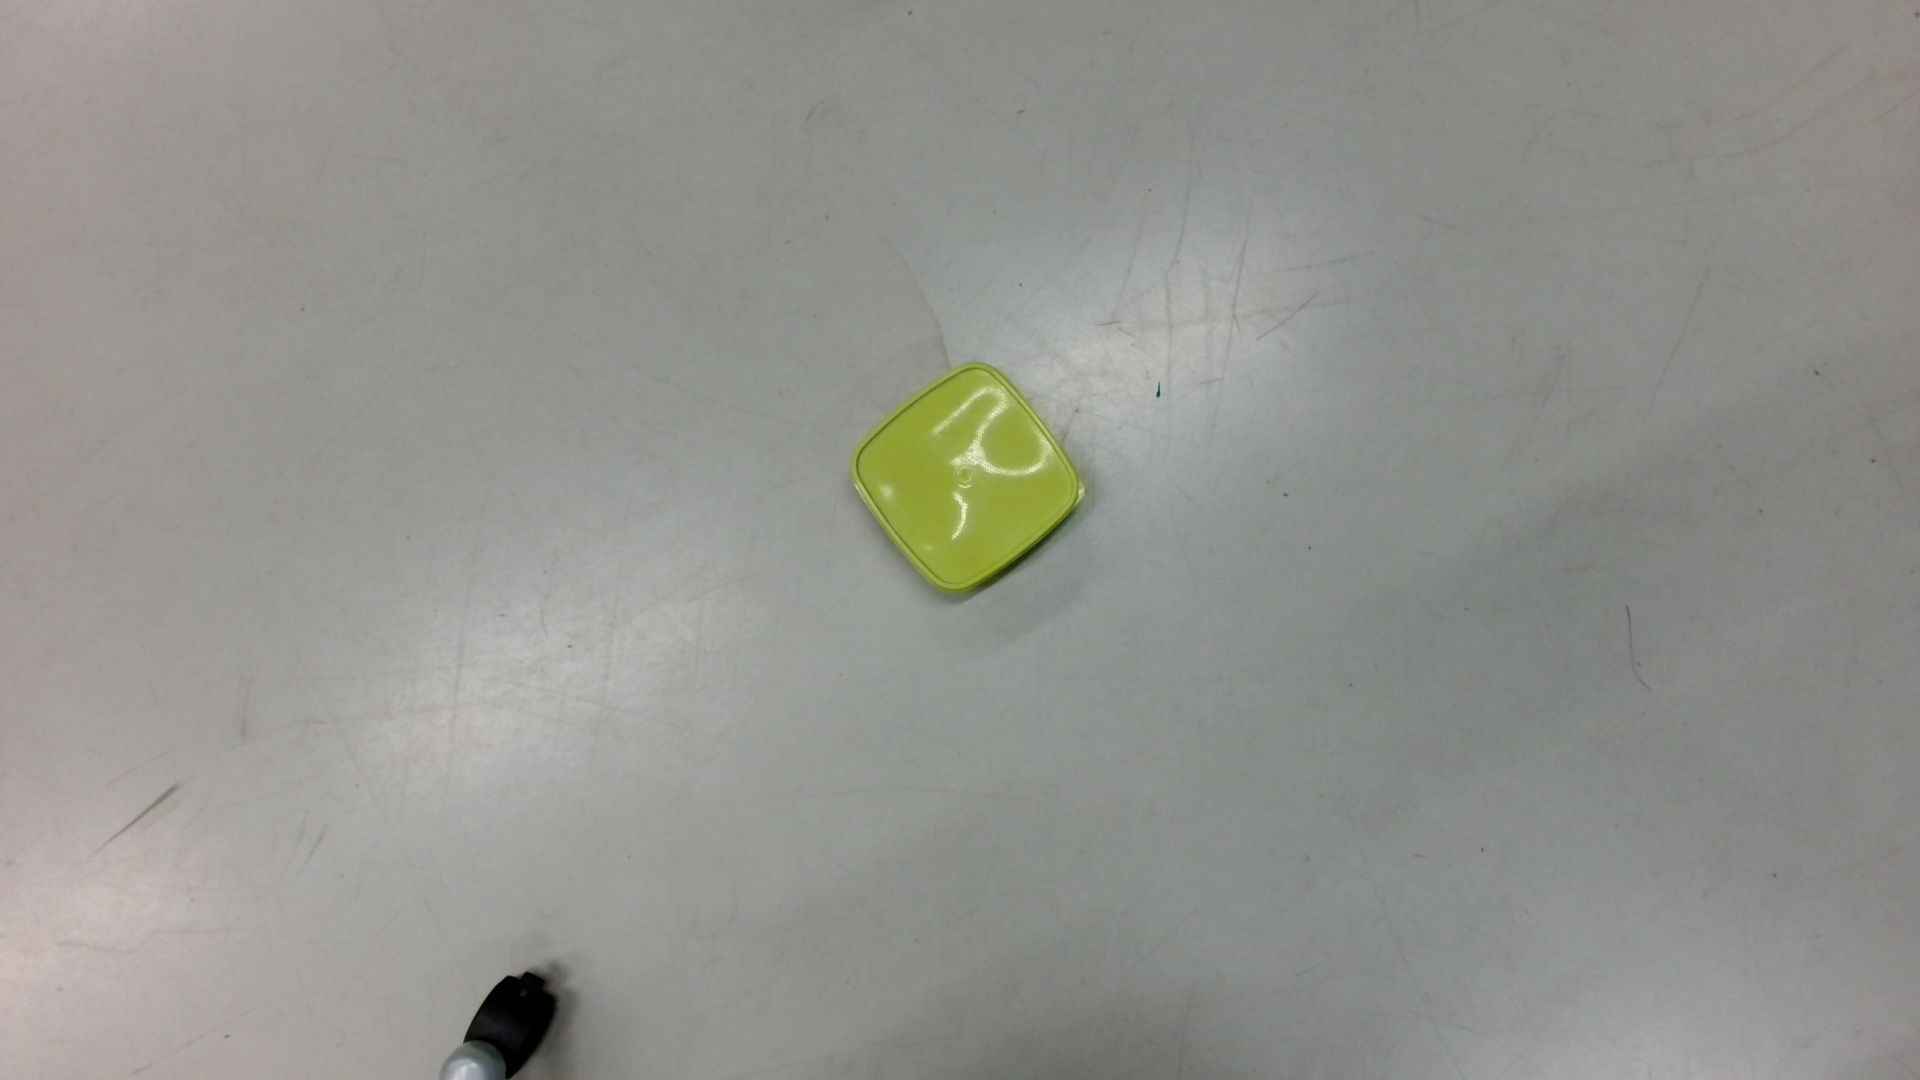Box: (839, 357, 1096, 605)
